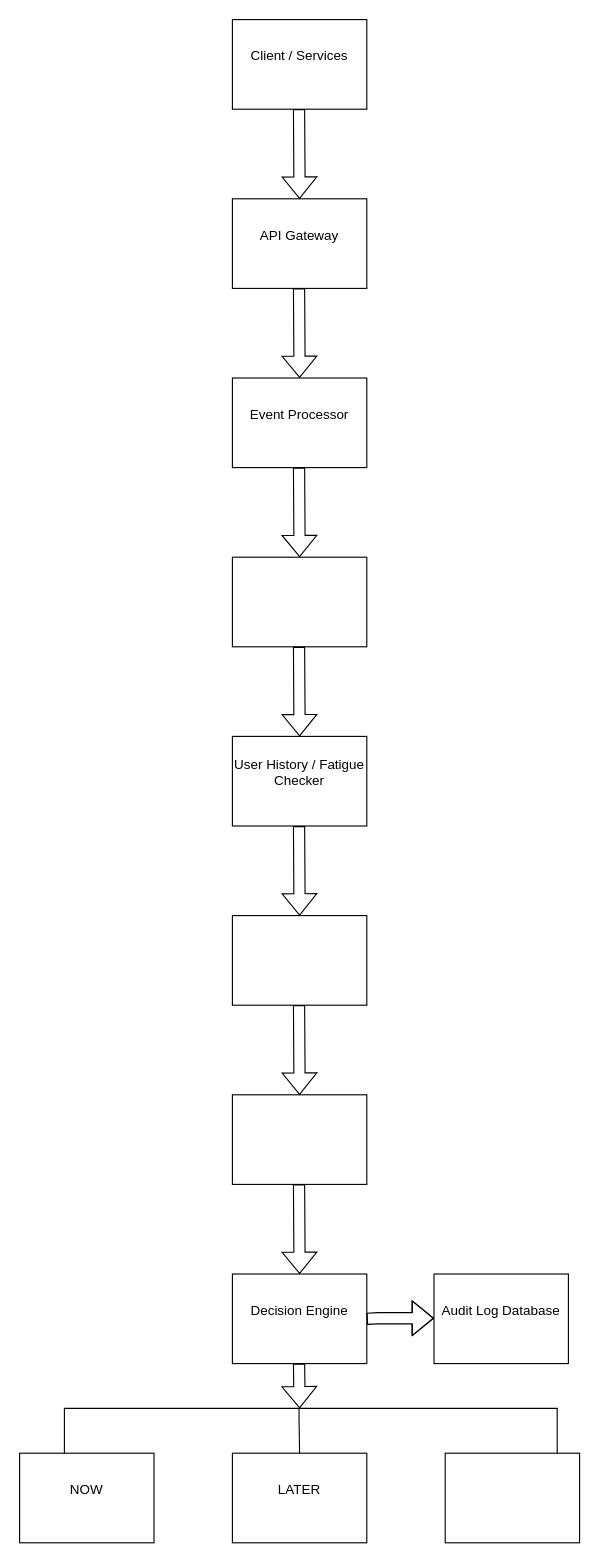
The diagram is 599 pixels wide and 1562 high, and some of its shapes have lost their labels. The centre of each missing label's shape, as x and y in pixels:
"AI Scoring Engine" goes at point 299,1139.
"Deduplication Service" goes at point 299,601.
"NEVER" goes at point 512,1497.
"Rules Engine" goes at point 299,959.
